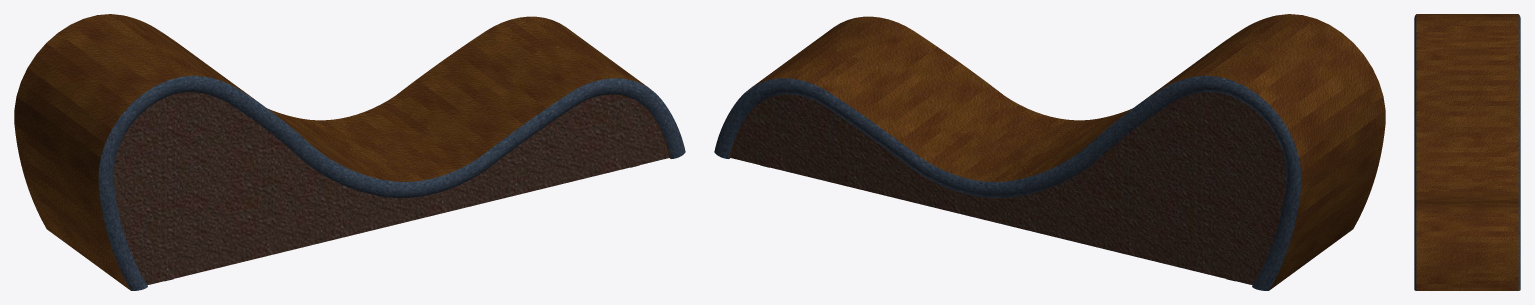
File: sex.glb
3 renders of one model, left to right at view 1: azimuth 30°, elevation 25°; view 2: azimuth 150°, elevation 25°; view 3: azimuth 270°, elevation 25°, orthographic. The views are drawn at different scales.
Visible parts, largest first — view 1: Mesh1_Leather_Red_Brown_0, Mesh1_Suede_Brown_0, Mesh1_Leather_Blue_0; view 2: Mesh1_Leather_Red_Brown_0, Mesh1_Suede_Brown_0, Mesh1_Leather_Blue_0; view 3: Mesh1_Leather_Red_Brown_0, Mesh1_Leather_Blue_0.
Part boxes in pixels (box(x1,y1,x2,y2)): Mesh1_Leather_Red_Brown_0: box(14, 14, 670, 290); Mesh1_Suede_Brown_0: box(113, 92, 669, 285); Mesh1_Leather_Blue_0: box(98, 75, 685, 290); Mesh1_Leather_Red_Brown_0: box(729, 14, 1385, 290); Mesh1_Suede_Brown_0: box(730, 92, 1286, 285); Mesh1_Leather_Blue_0: box(714, 75, 1301, 290); Mesh1_Leather_Red_Brown_0: box(1416, 14, 1518, 290); Mesh1_Leather_Blue_0: box(1414, 14, 1520, 290).
Bounding box in the file's own units: 2.05 × 0.6945 × 0.53.
4 materials, 3 textured.
